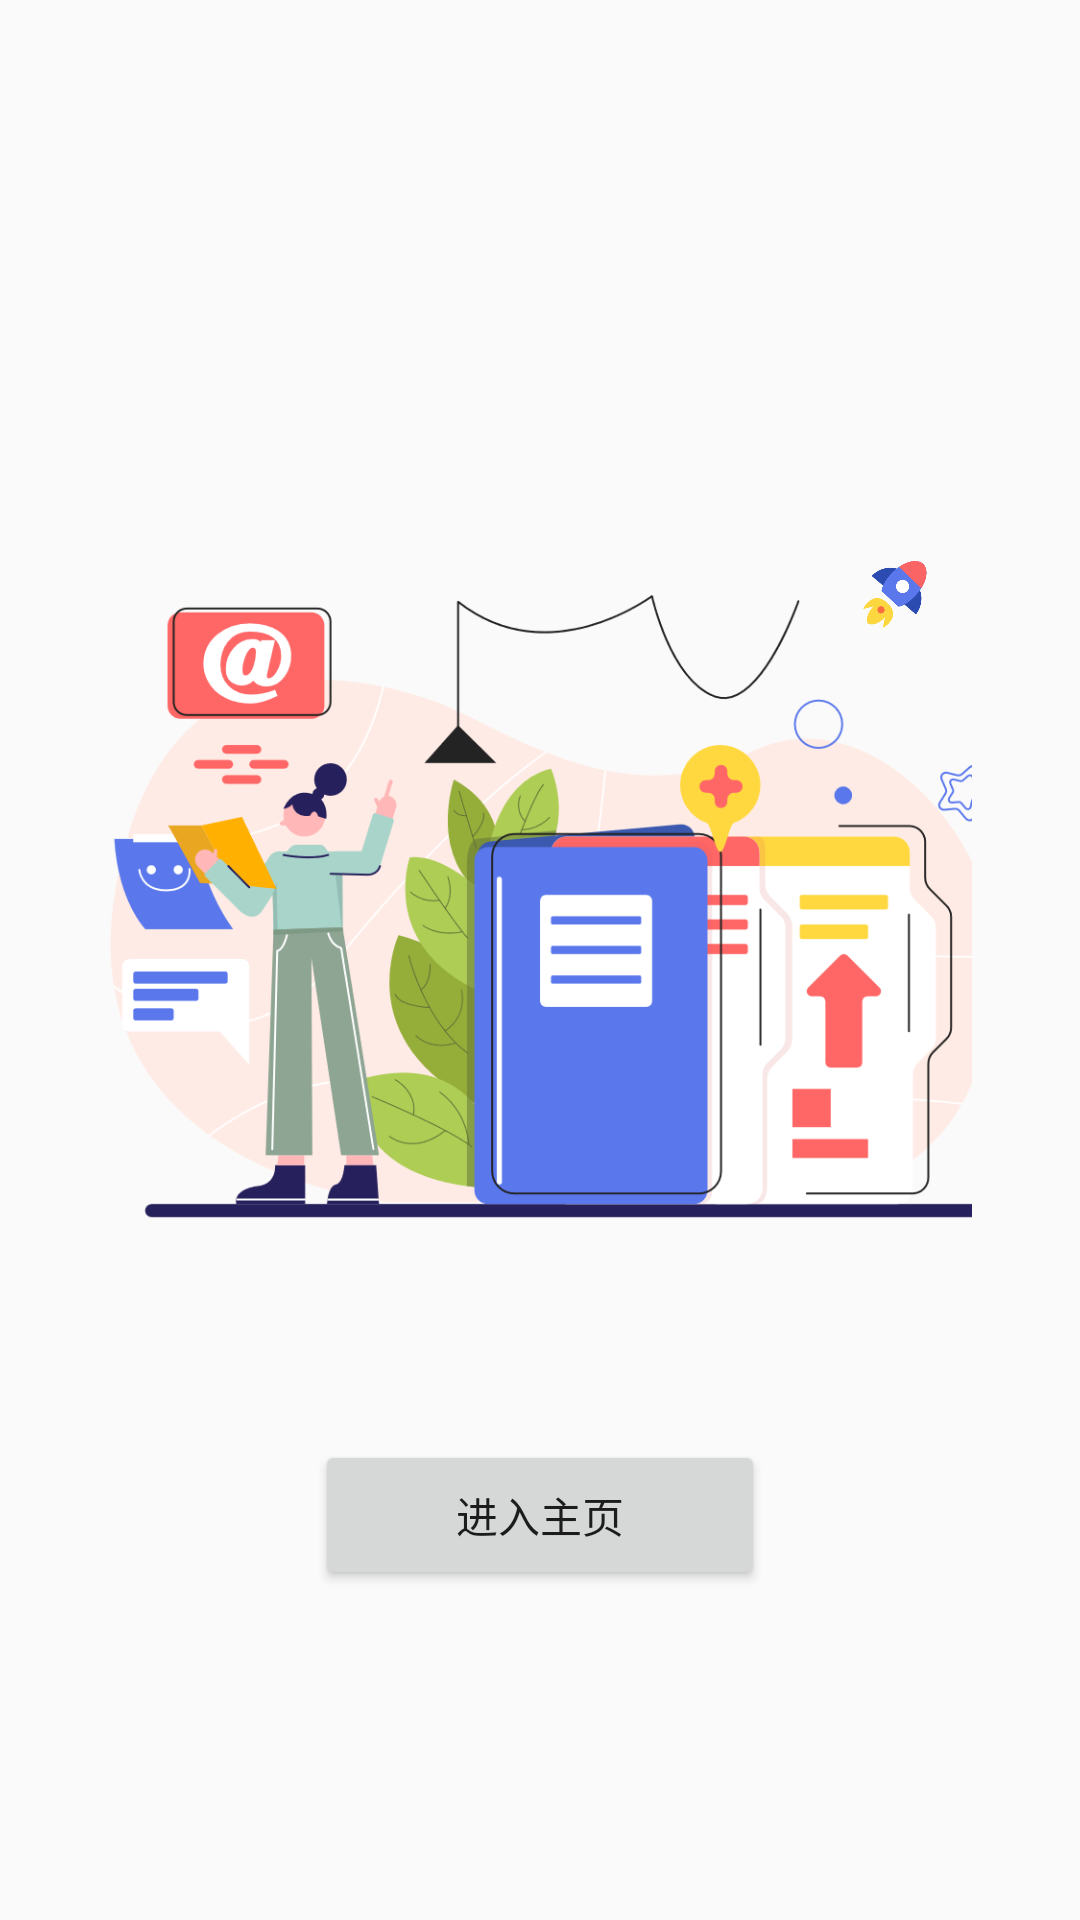

Icon click points for this 1080 × 1920 phone screenshot, format [x,y]:
rocket: [895,594]
